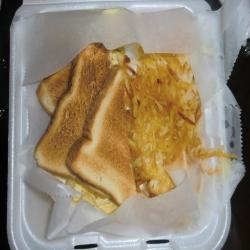bread: (36, 50, 139, 205)
omelette: (118, 47, 214, 202)
